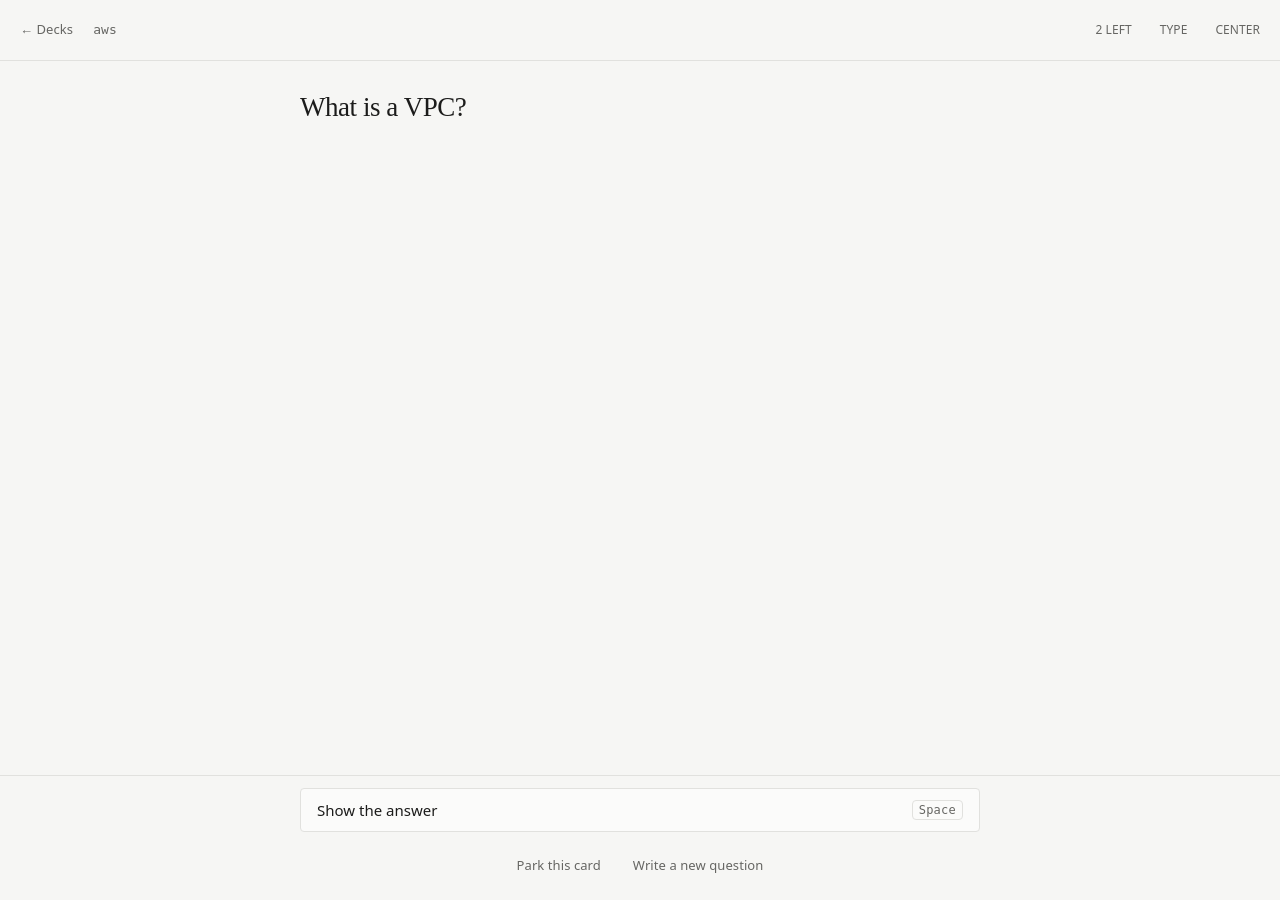
Scenario: ReviewSession undoing the last step (#600) › #600 A7 holds one step: after an undo there is nothing more to take back
Expected: the field with class "cm-content" is shown, [300,92,466,122]
Click the button "Show the answer Space". click: (377, 810)
box: [300,788,980,832]
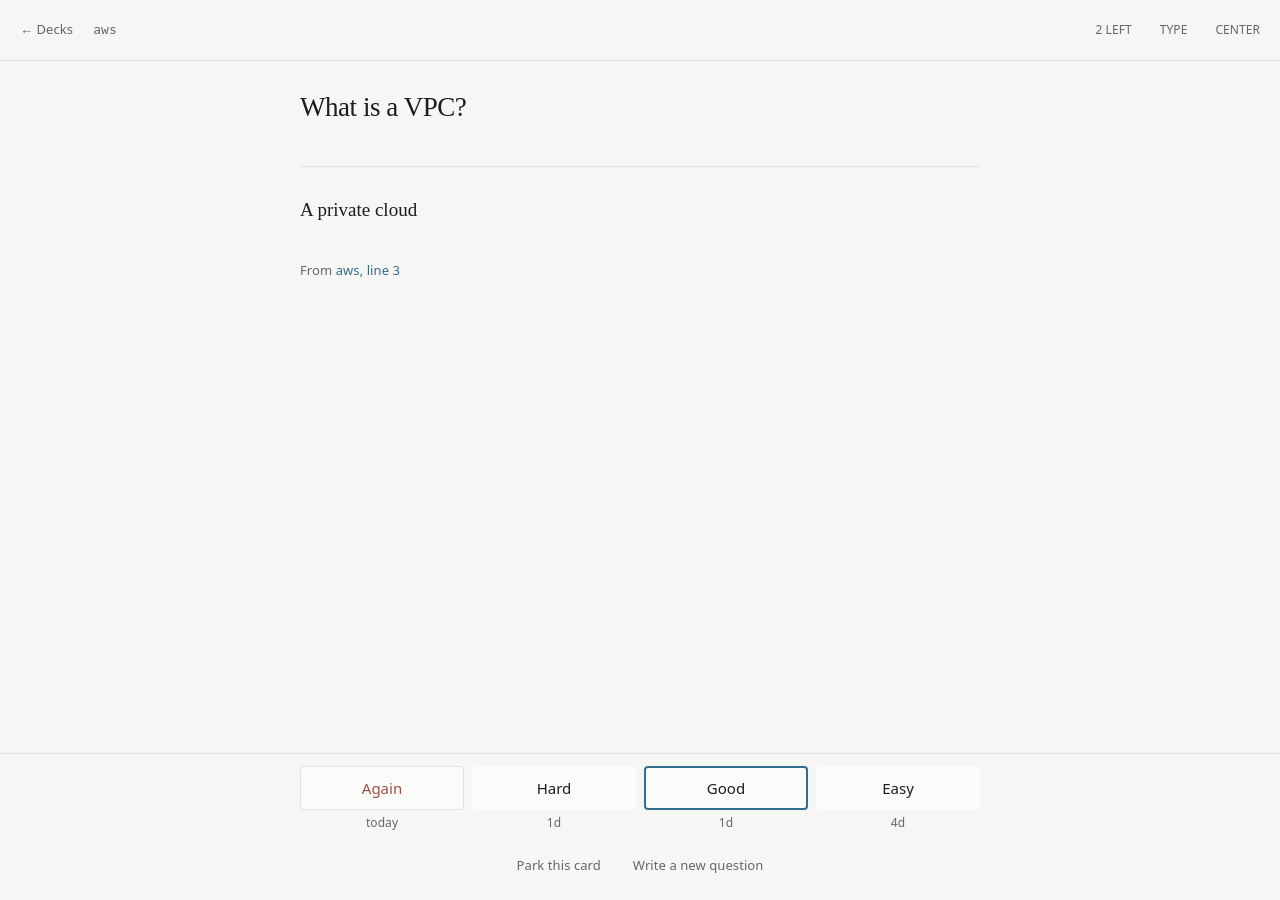
Click the button "Good". click: (726, 788)
box: [644,766,808,810]
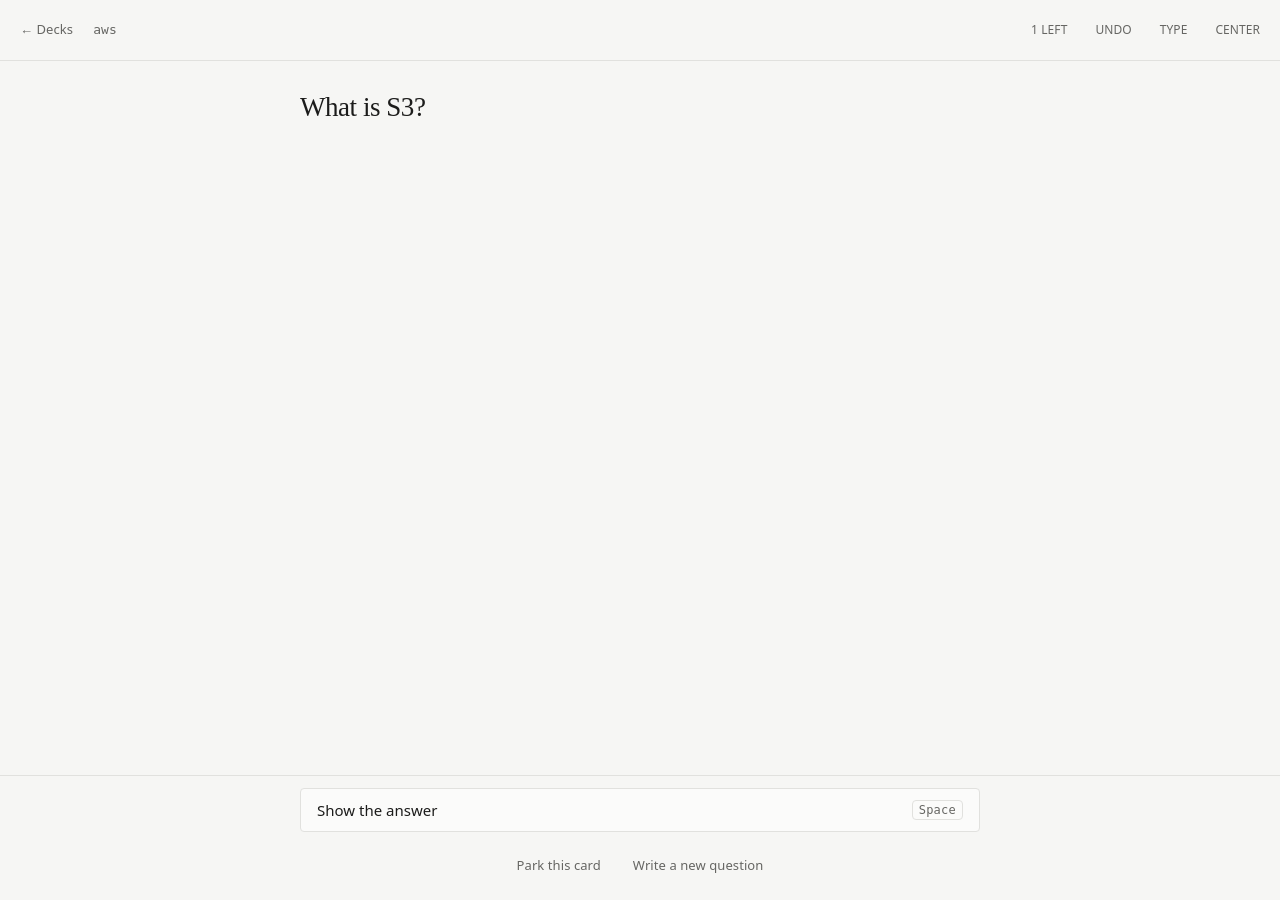
Click the button "Show the answer Space". click: (377, 810)
box: [300,788,980,832]
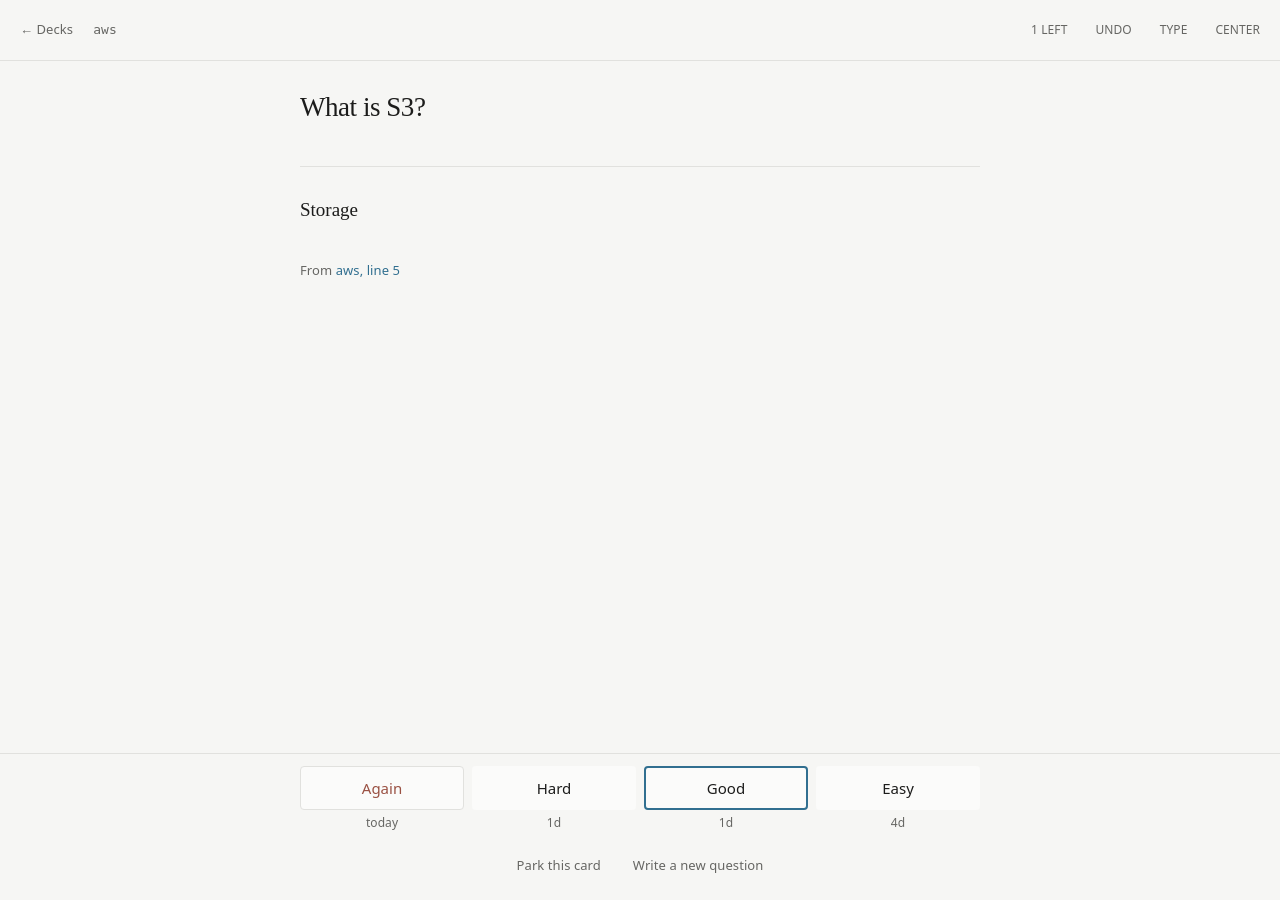
Click the button "Good". click: (726, 788)
box: [644,766,808,810]
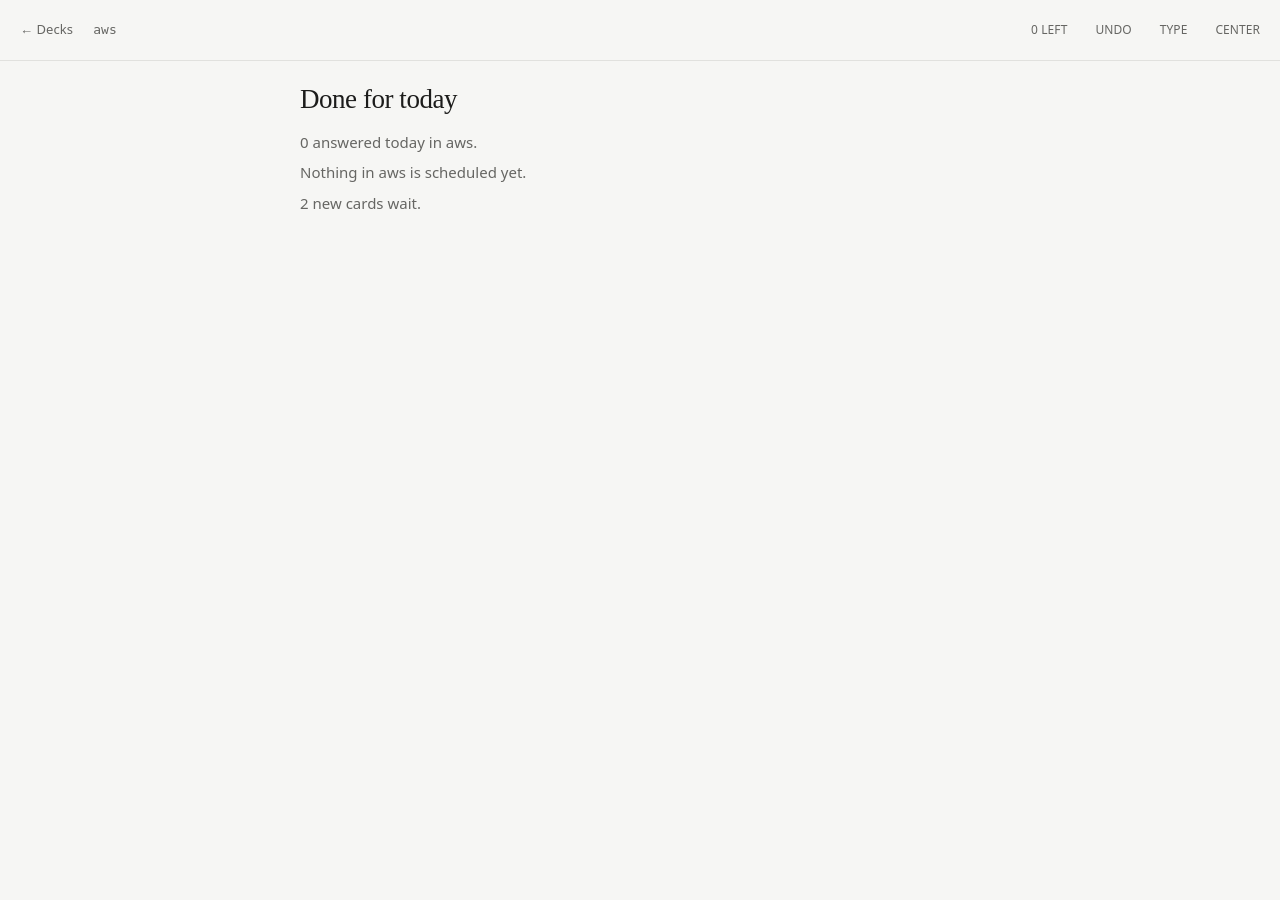
Now the button "Undo" is shown
Click the button "Undo". click: (1114, 30)
box: [1087,8,1140,52]
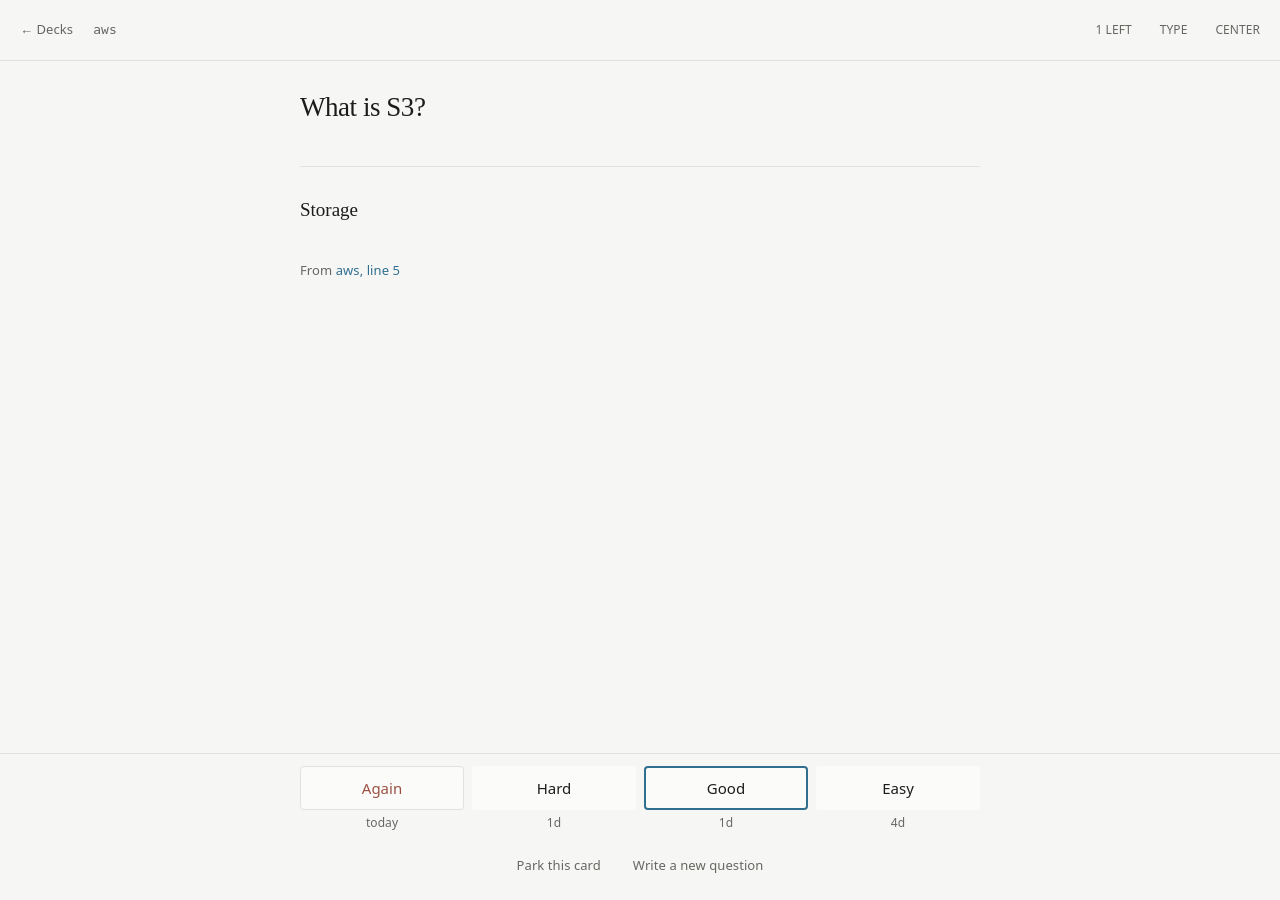
Now the element with test id "review-card" shows "What is S3?", box [300,92,425,122]
Now the button "Undo" is gone
